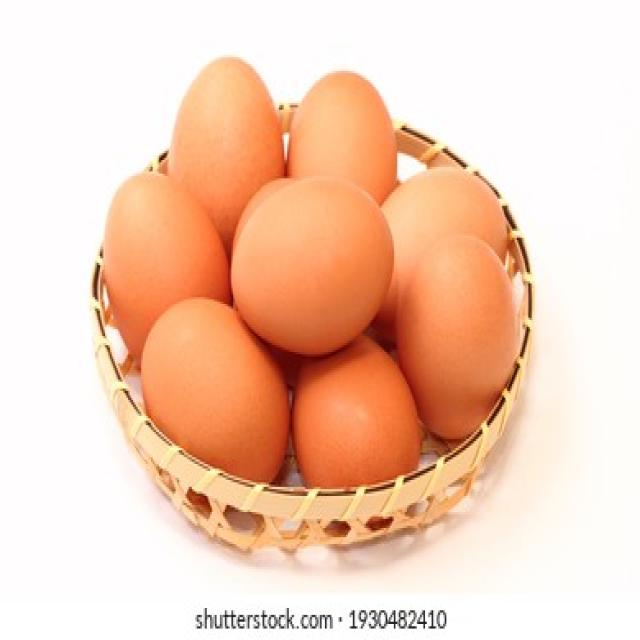Brown Egg: (228, 164, 392, 337), (137, 296, 286, 486), (399, 233, 514, 432), (169, 43, 285, 227), (292, 326, 414, 475), (107, 157, 219, 316), (378, 159, 516, 272), (290, 82, 397, 202)
